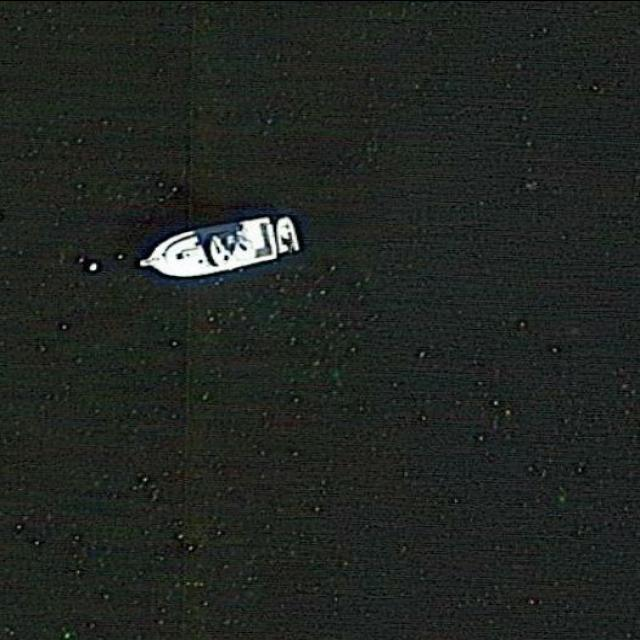ship: (131, 211, 303, 279)
